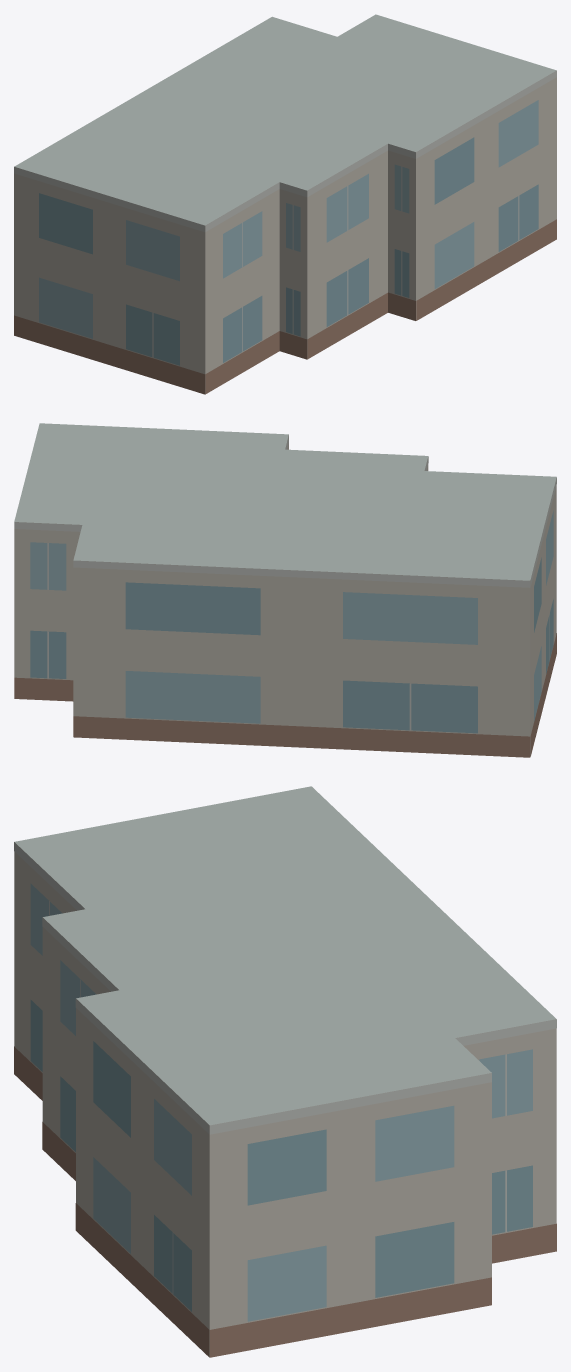
Rendered from survey-upis-32692390.glb.
3 renders of one model, top to bottom at view 1: azimuth 30°, elevation 25°; view 2: azimuth 150°, elevation 25°; view 3: azimuth 270°, elevation 25°, orthographic. The views are drawn at different scales.
Parts seen in each view (by area): view 1: survey-upis-32692390.tmp; view 2: survey-upis-32692390.tmp; view 3: survey-upis-32692390.tmp.
Part boxes in pixels (left/top/right/bottom): survey-upis-32692390.tmp: left=14, top=14, right=556, bottom=394; survey-upis-32692390.tmp: left=14, top=423, right=556, bottom=757; survey-upis-32692390.tmp: left=14, top=786, right=556, bottom=1357.
Size of the model in its own units: 19.12 by 6.1 by 12.93.
